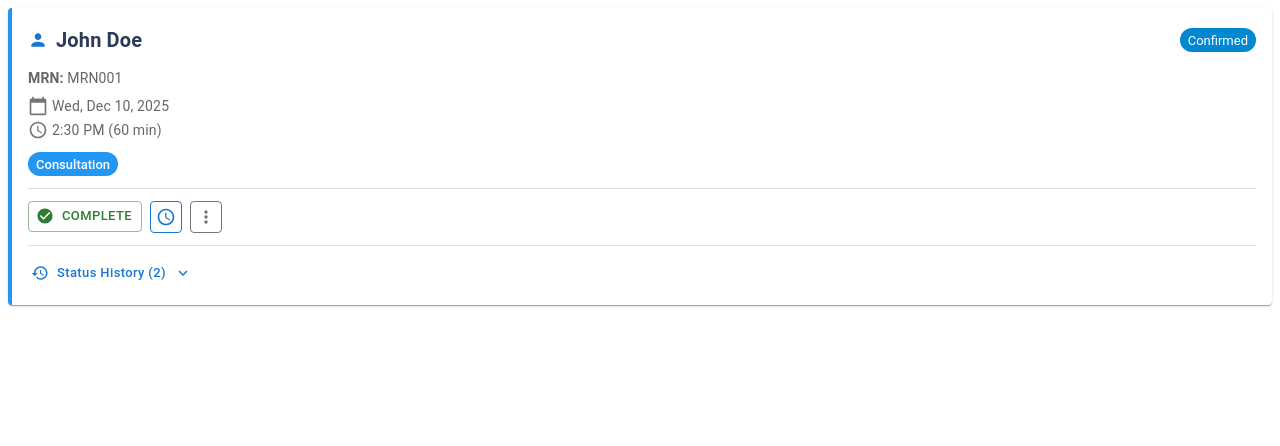
Test: AppointmentCard › toggles status history display
# Click to expand history
Click the button "Status History (2)": (112, 273) [28,258,195,289]
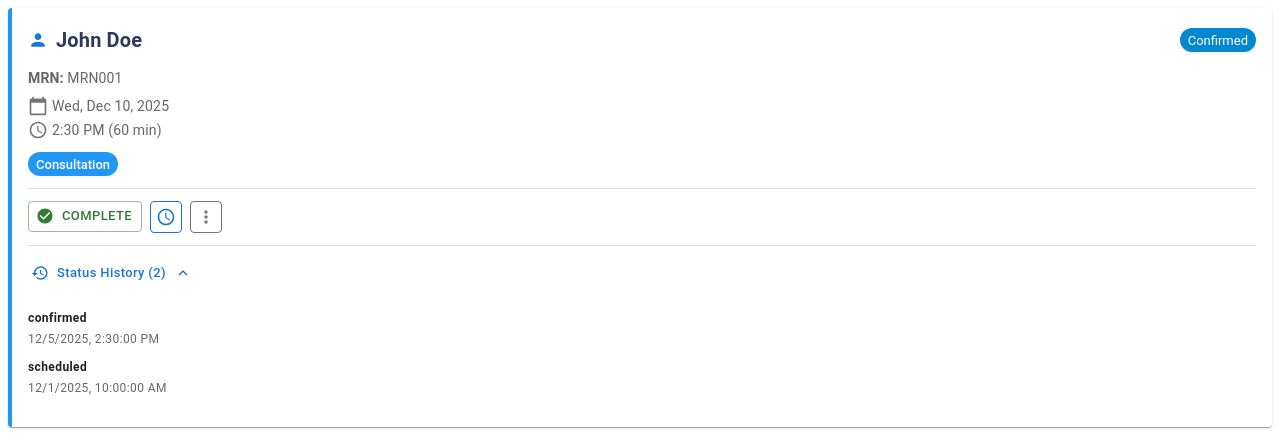
expect the text "confirmed" in the row of "John Doe" is shown: met, box [1188,32,1248,48]
expect the text "scheduled" is shown: met, box [28,360,87,374]
